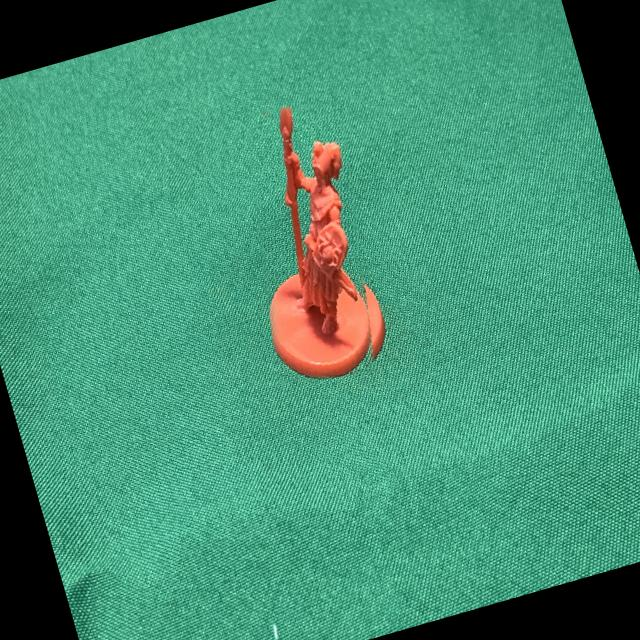amon_follower: (268, 105, 371, 378)
